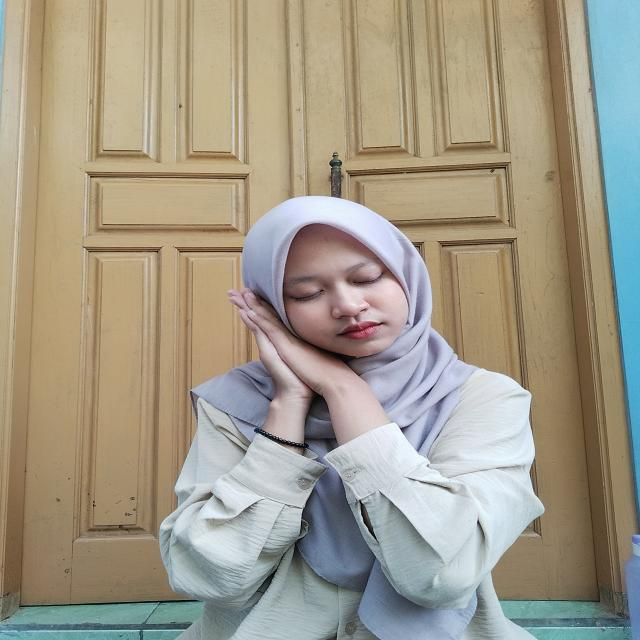tidur: (201, 276, 373, 424)
